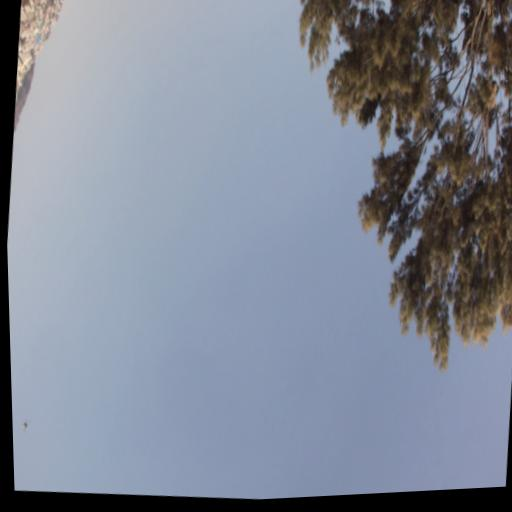drones: (19, 415, 33, 436)
